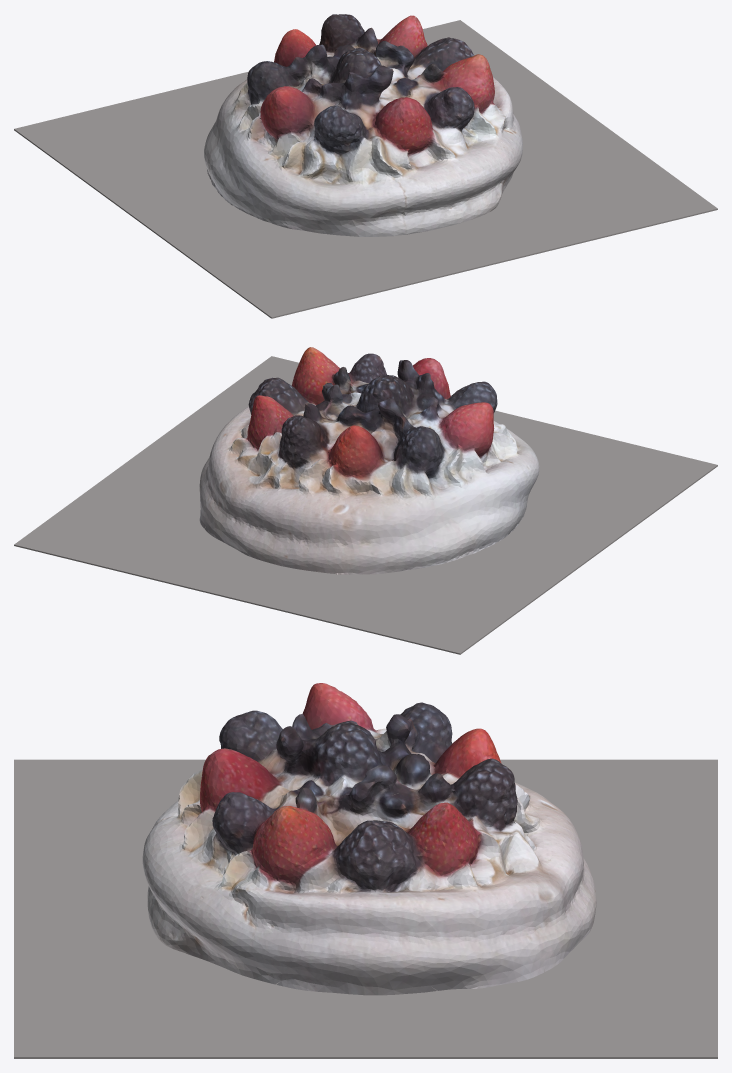
File: keik sefid.glb
3 views of the same model, one above another, from view 1: azimuth 30°, elevation 25°; view 2: azimuth 150°, elevation 25°; view 3: azimuth 270°, elevation 25° (orthographic). The views are drawn at different scales.
Parts seen in each view (by area): view 1: Cube, object 1; view 2: Cube, object 1; view 3: Cube, object 1.
Part boxes in pixels (x1,y1,x2,y2): Cube: (14, 20, 717, 318); object 1: (204, 14, 522, 236); Cube: (14, 356, 717, 654); object 1: (199, 347, 539, 574); Cube: (14, 759, 717, 1058); object 1: (142, 683, 596, 995).
Bounding box in the file's own units: 0.14 × 0.0383 × 0.14.
2 materials, 1 textured.
